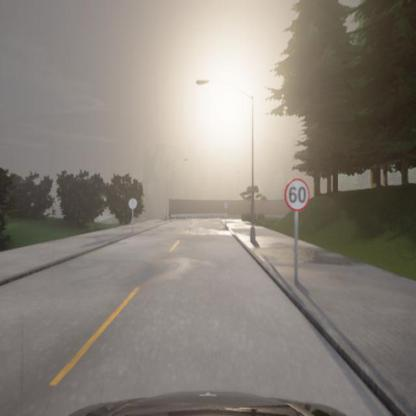traffic_sign_60: (285, 178, 309, 210)
